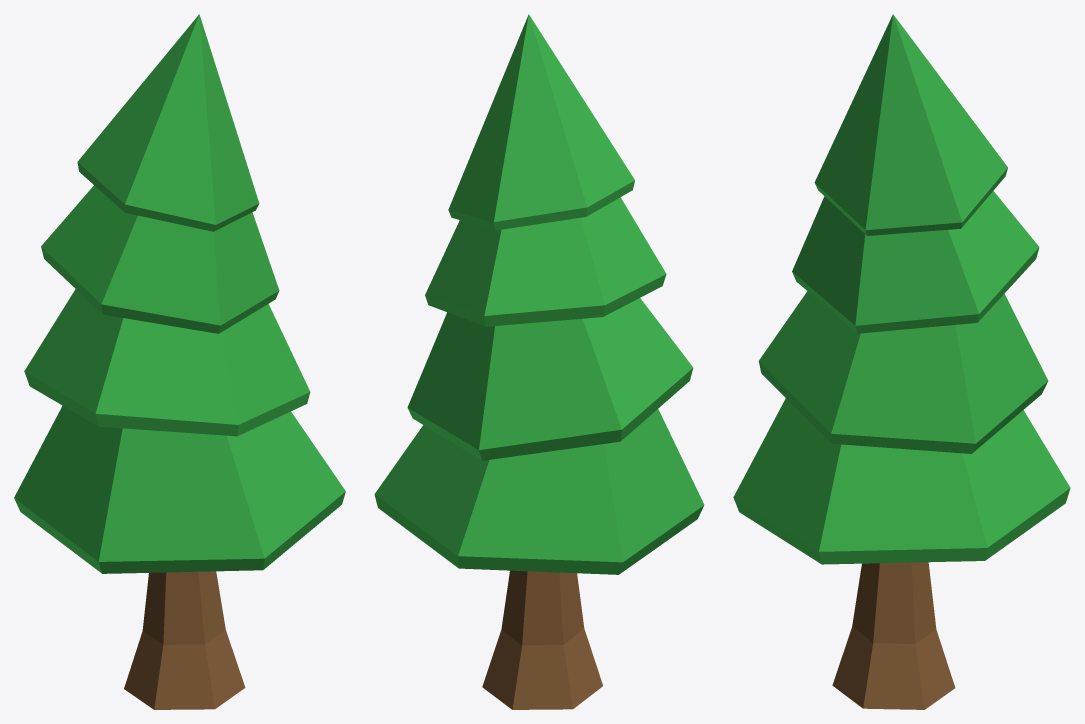
Rendered from tree.fbx.
The picture shows the model from 3 angles, left to right: view 1: azimuth 30°, elevation 25°; view 2: azimuth 150°, elevation 25°; view 3: azimuth 270°, elevation 25°; orthographic projection.
Parts seen in each view (by area): view 1: tree; view 2: tree; view 3: tree.
Part boxes in pixels (box(x1,y1,x2,y2)): tree: box(14, 14, 345, 709); tree: box(374, 14, 704, 709); tree: box(733, 14, 1070, 709).
Size of the model in its own units: 2962 by 7618 by 3418.
